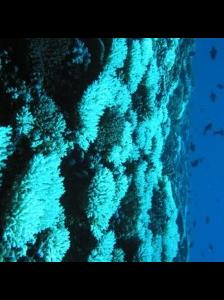bleached_corals: (0, 39, 187, 262)
